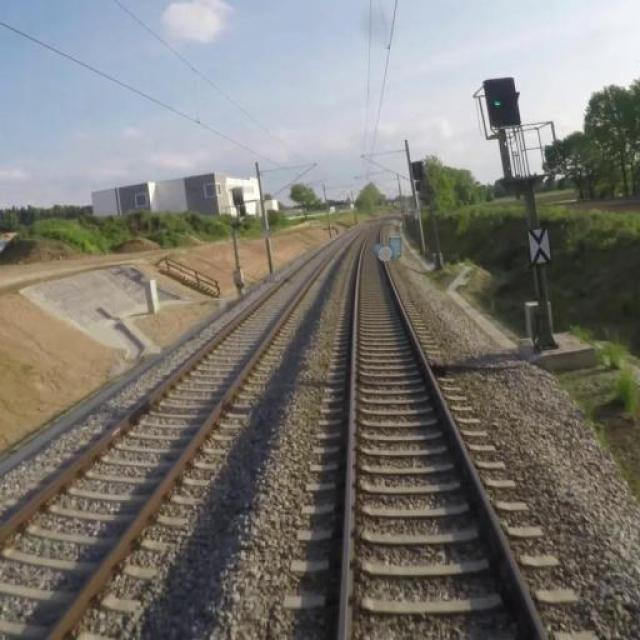Other_objects: (370, 230, 408, 266)
